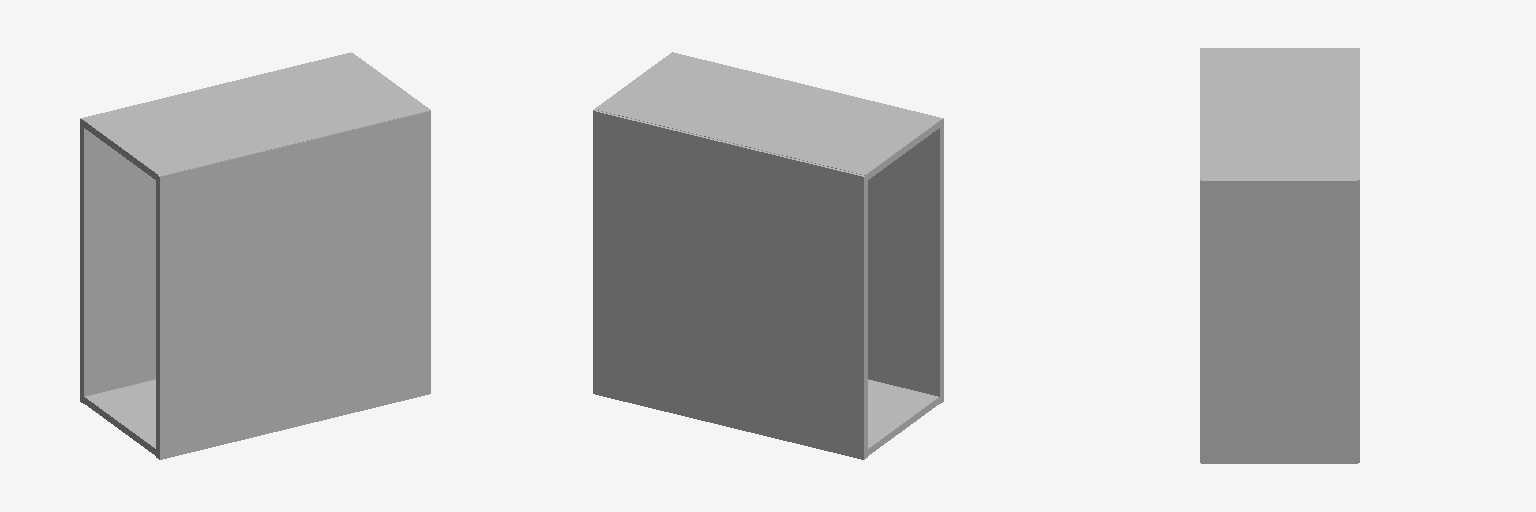
Rendered from CaseTest.obj.
The picture shows the model from 3 angles: view 1: azimuth 30°, elevation 25°; view 2: azimuth 150°, elevation 25°; view 3: azimuth 270°, elevation 25°; orthographic projection.
Visible parts, largest first — view 1: Cube_Cube.002, Cube.002_Cube.004, Cube.001_Cube.003, Cube.003_Cube.005; view 2: Cube.001_Cube.003, Cube.002_Cube.004, Cube_Cube.002, Cube.003_Cube.005; view 3: Cube.004_Cube.006, Cube.002_Cube.004, Cube.001_Cube.003.
Part boxes in pixels (bbox=[...]): Cube_Cube.002: bbox=[156, 111, 430, 459]; Cube.002_Cube.004: bbox=[82, 53, 430, 179]; Cube.001_Cube.003: bbox=[80, 52, 350, 403]; Cube.003_Cube.005: bbox=[84, 379, 155, 455]; Cube.001_Cube.003: bbox=[593, 110, 867, 459]; Cube.002_Cube.004: bbox=[595, 52, 942, 179]; Cube_Cube.002: bbox=[868, 118, 943, 403]; Cube.003_Cube.005: bbox=[868, 379, 939, 455]; Cube.004_Cube.006: bbox=[1201, 178, 1357, 463]; Cube.002_Cube.004: bbox=[1201, 48, 1356, 179]; Cube.001_Cube.003: bbox=[1357, 48, 1359, 462].
Size of the model in its own units: 4.02 by 4 by 2.05.